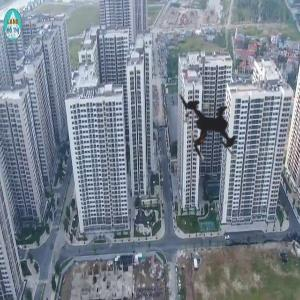drone: (148, 67, 269, 188)
